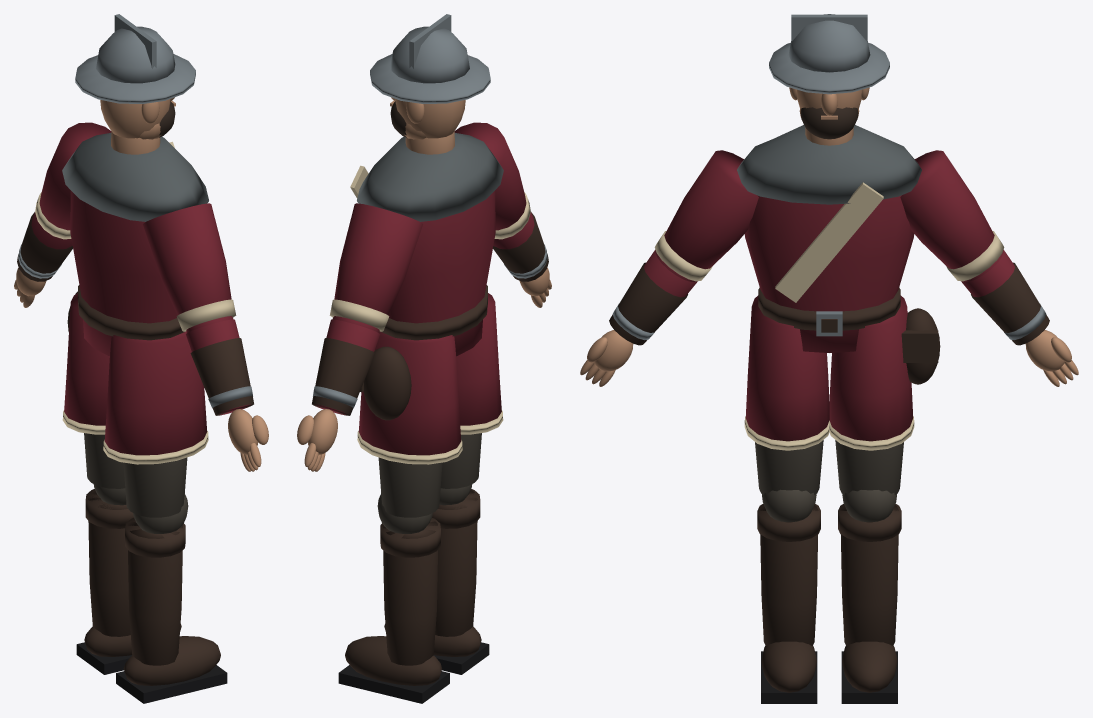
The model's file is siege-soldier.glb.
The picture shows the model from 3 angles, left to right: view 1: azimuth 30°, elevation 25°; view 2: azimuth 150°, elevation 25°; view 3: azimuth 270°, elevation 25°; orthographic projection. The views are drawn at different scales.
Visible parts, largest first — view 1: Mesh_SkirtPanel_1, Mesh_TunicTorso, Mesh_MailMantle, Mesh_TunicUpperArm_1, Mesh_BootShaft_1, Mesh_BootShaft_-1, Mesh_SkirtPanel_-1, Mesh_KettleHelmetCrown, Mesh_HoseThigh_1, Mesh_KettleHelmetBrim, Mesh_LeatherBracer_1, Mesh_BootFoot_1 (+23 smaller); view 2: Mesh_TunicTorso, Mesh_MailMantle, Mesh_SkirtPanel_-1, Mesh_TunicUpperArm_-1, Mesh_BootShaft_-1, Mesh_BootShaft_1, Mesh_SkirtPanel_1, Mesh_KettleHelmetCrown, Mesh_HoseThigh_-1, Mesh_KettleHelmetBrim, Mesh_LeatherBracer_-1, Mesh_BootFoot_-1 (+24 smaller); view 3: Mesh_TunicTorso, Mesh_MailMantle, Mesh_SkirtPanel_1, Mesh_SkirtPanel_-1, Mesh_TunicUpperArm_1, Mesh_TunicUpperArm_-1, Mesh_BootShaft_1, Mesh_BootShaft_-1, Mesh_LinenDiagonalBend, Mesh_KettleHelmetCrown, Mesh_KettleHelmetBrim, Mesh_HoseThigh_-1 (+25 smaller).
Part boxes in pixels (left/top/right/bottom): Mesh_SkirtPanel_1: left=104, top=331, right=207, bottom=455; Mesh_TunicTorso: left=70, top=191, right=177, bottom=356; Mesh_MailMantle: left=62, top=133, right=208, bottom=221; Mesh_TunicUpperArm_1: left=143, top=203, right=231, bottom=314; Mesh_BootShaft_1: left=128, top=521, right=183, bottom=665; Mesh_BootShaft_-1: left=88, top=490, right=130, bottom=636; Mesh_SkirtPanel_-1: left=64, top=293, right=109, bottom=425; Mesh_KettleHelmetCrown: left=96, top=26, right=175, bottom=83; Mesh_HoseThigh_1: left=123, top=457, right=187, bottom=517; Mesh_KettleHelmetBrim: left=75, top=54, right=195, bottom=103; Mesh_LeatherBracer_1: left=190, top=338, right=253, bottom=415; Mesh_BootFoot_1: left=123, top=636, right=220, bottom=685; Mesh_TunicTorso: left=388, top=191, right=495, bottom=356; Mesh_MailMantle: left=357, top=133, right=503, bottom=221; Mesh_SkirtPanel_-1: left=358, top=331, right=461, bottom=455; Mesh_TunicUpperArm_-1: left=334, top=203, right=422, bottom=314; Mesh_BootShaft_-1: left=382, top=521, right=437, bottom=665; Mesh_BootShaft_1: left=435, top=490, right=477, bottom=636; Mesh_SkirtPanel_1: left=456, top=293, right=501, bottom=425; Mesh_KettleHelmetCrown: left=390, top=26, right=469, bottom=83; Mesh_HoseThigh_-1: left=378, top=457, right=442, bottom=517; Mesh_KettleHelmetBrim: left=370, top=54, right=490, bottom=103; Mesh_LeatherBracer_-1: left=312, top=338, right=375, bottom=415; Mesh_BootFoot_-1: left=345, top=636, right=442, bottom=685; Mesh_TunicTorso: left=744, top=195, right=914, bottom=352; Mesh_MailMantle: left=737, top=125, right=921, bottom=204; Mesh_SkirtPanel_1: left=745, top=295, right=829, bottom=441; Mesh_SkirtPanel_-1: left=829, top=295, right=913, bottom=441; Mesh_TunicUpperArm_1: left=664, top=150, right=758, bottom=269; Mesh_TunicUpperArm_-1: left=900, top=150, right=994, bottom=269; Mesh_BootShaft_1: left=760, top=505, right=818, bottom=645; Mesh_BootShaft_-1: left=840, top=505, right=898, bottom=645; Mesh_LinenDiagonalBend: left=775, top=182, right=883, bottom=302; Mesh_KettleHelmetCrown: left=788, top=14, right=870, bottom=72; Mesh_KettleHelmetBrim: left=769, top=42, right=889, bottom=94; Mesh_HoseThigh_-1: left=835, top=440, right=903, bottom=494.
Size of the model in its own units: 0.352 by 1.81 by 1.24.
